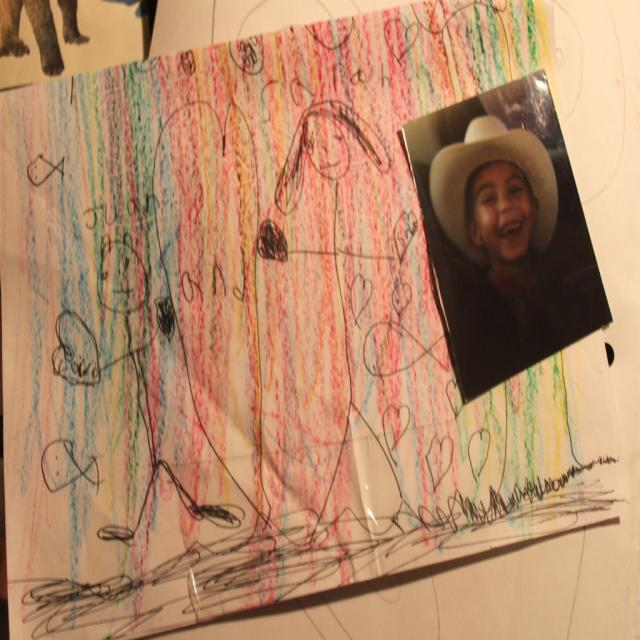Hat: (427, 118, 558, 270)
